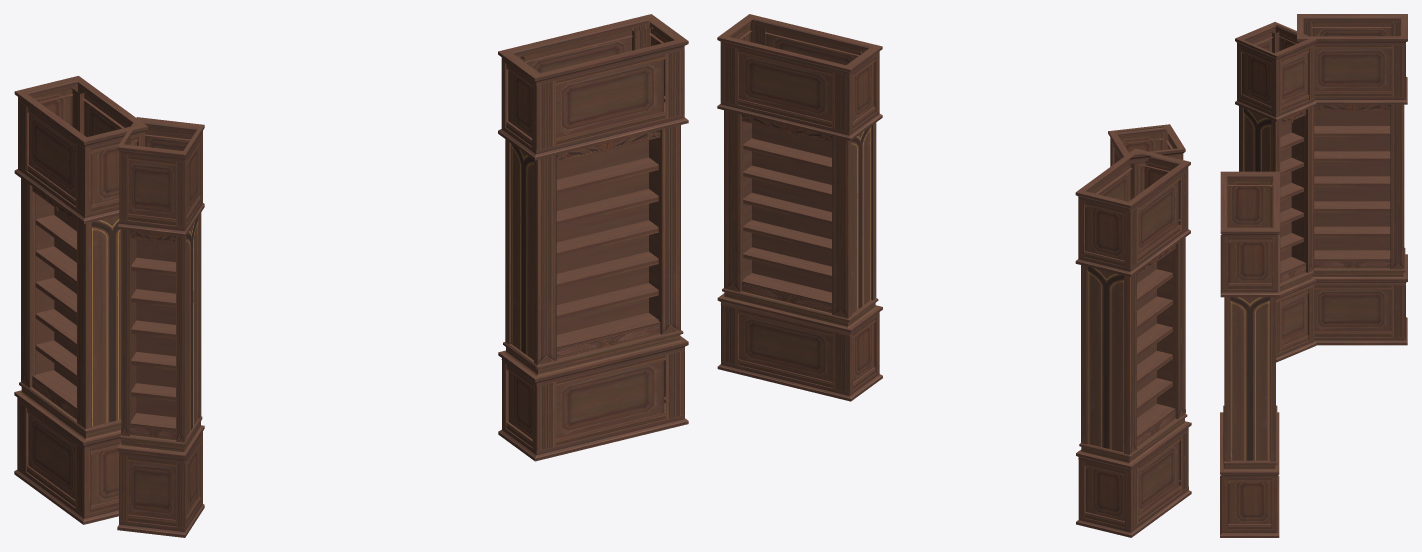
The model's file is LibrerosAnchoVar.obj.
3 renders of one model, left to right at view 1: azimuth 30°, elevation 25°; view 2: azimuth 150°, elevation 25°; view 3: azimuth 270°, elevation 25°, orthographic. The views are drawn at different scales.
Parts seen in each view (by area): view 1: pasted__Librero1_polySurface179 group3, group3 pasted__Librero1_polySurface175, group3 pasted__Librero1_polySurface174; view 2: pasted__Librero1_polySurface179 group3, group3 pasted__Librero1_polySurface175, group3 pasted__Librero1_polySurface174; view 3: group3 pasted__Librero1_polySurface175, pasted__Librero1_polySurface179 group3, group3 pasted__Librero1_polySurface174.
Part boxes in pixels (x1,y1,x2,y2): pasted__Librero1_polySurface179 group3: [498, 14, 688, 461]; group3 pasted__Librero1_polySurface175: [14, 76, 147, 524]; group3 pasted__Librero1_polySurface174: [117, 117, 204, 537]; pasted__Librero1_polySurface179 group3: [717, 14, 882, 401]; group3 pasted__Librero1_polySurface175: [1075, 148, 1191, 537]; group3 pasted__Librero1_polySurface174: [1108, 124, 1185, 412]; group3 pasted__Librero1_polySurface175: [1297, 14, 1407, 345]; pasted__Librero1_polySurface179 group3: [1220, 171, 1279, 537]; group3 pasted__Librero1_polySurface174: [1235, 22, 1316, 362].
Bounding box in the file's own units: 9.94 × 6.52 × 3.62.
Materials: 1 (1 with a texture image).
